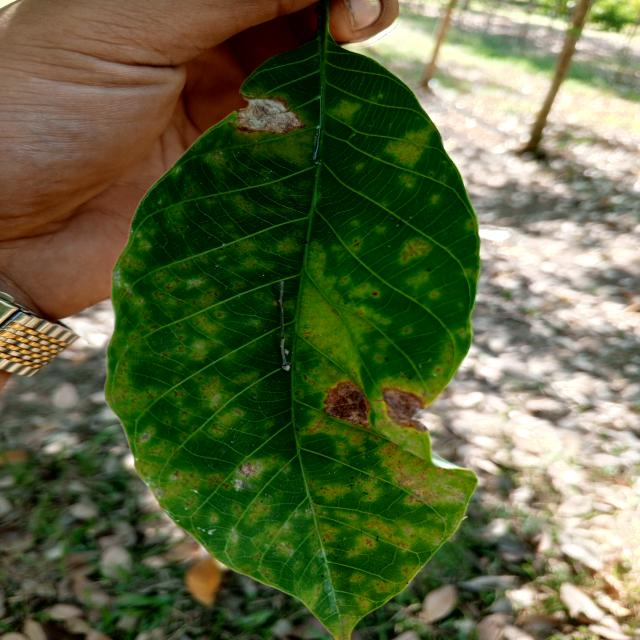Leaf-Blight: (234, 96, 304, 136), (323, 380, 372, 429), (382, 386, 426, 432)
